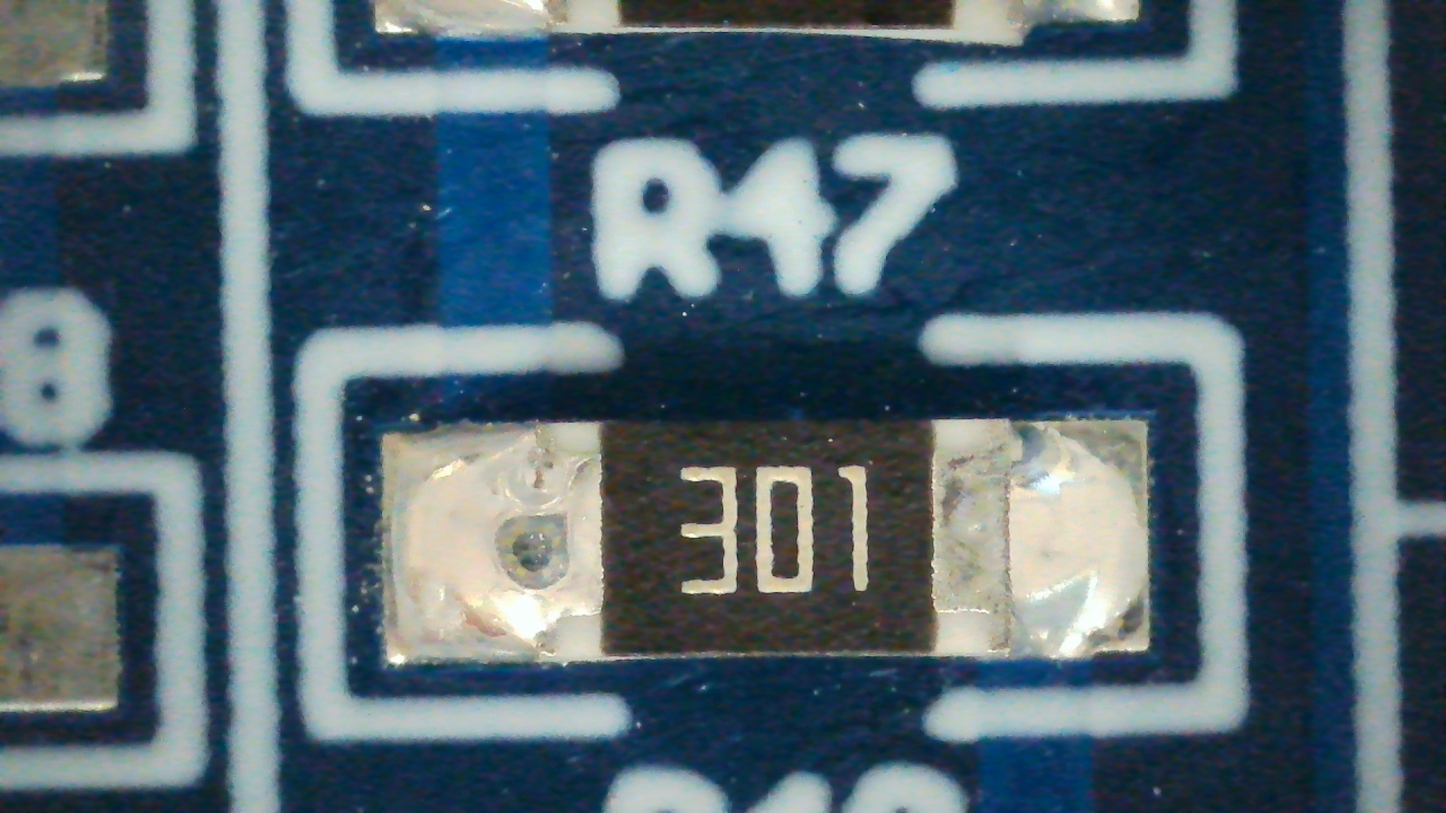OK: (384, 421, 1150, 664)
